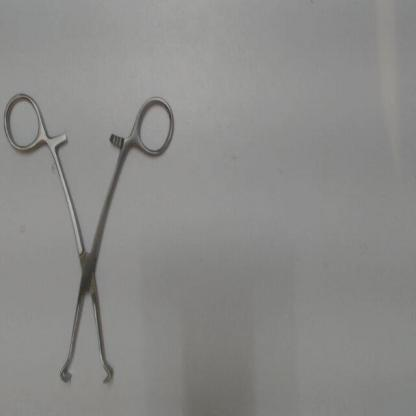Babcock Tissue Forceps: (0, 87, 180, 392)
